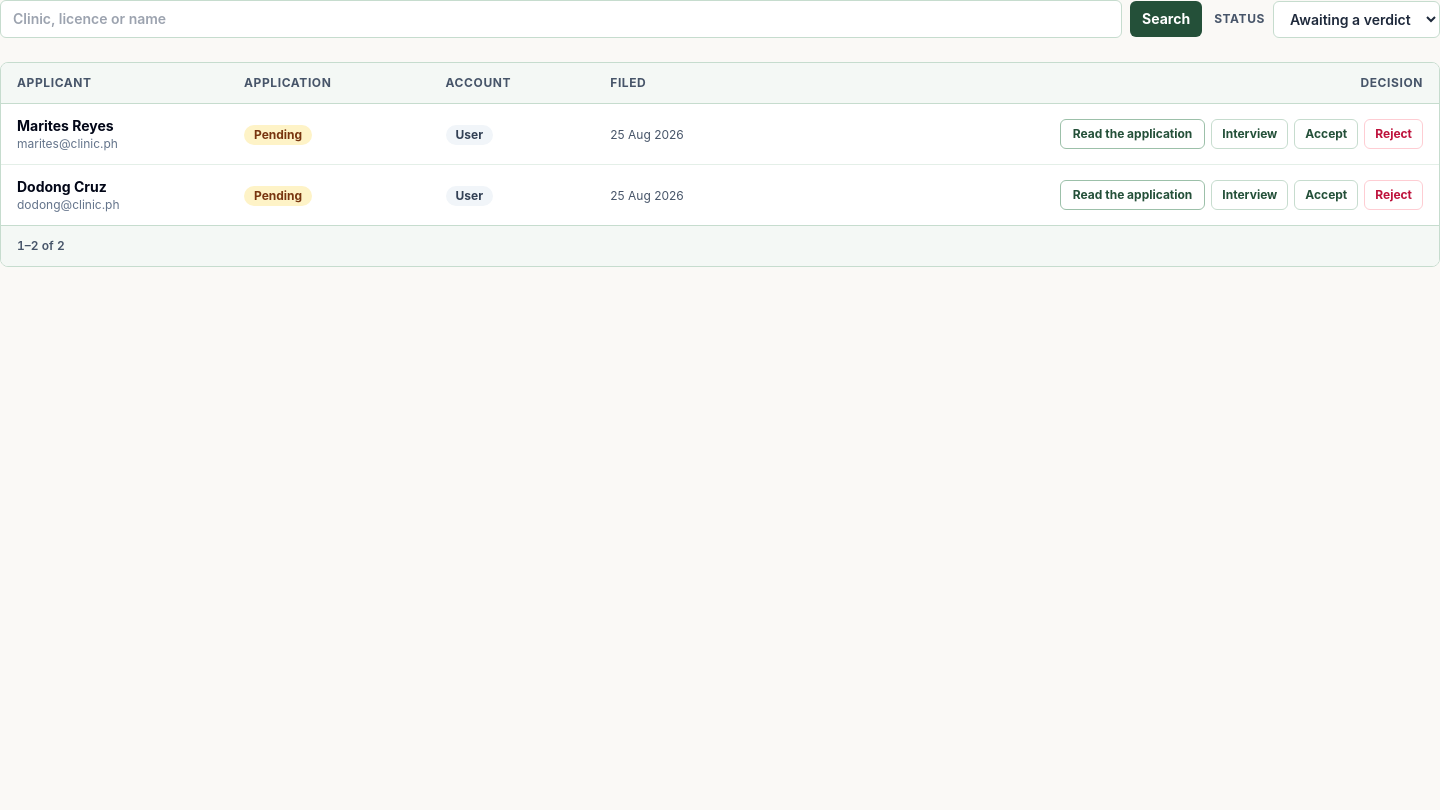
Test case: reading the submission › opens the row that was clicked, not the first in the queue
The image size is (1440, 810).
Click the button "Read the application" in the row of "Dodong Cruz" at (1133, 195), box 1060,180 -> 1205,210
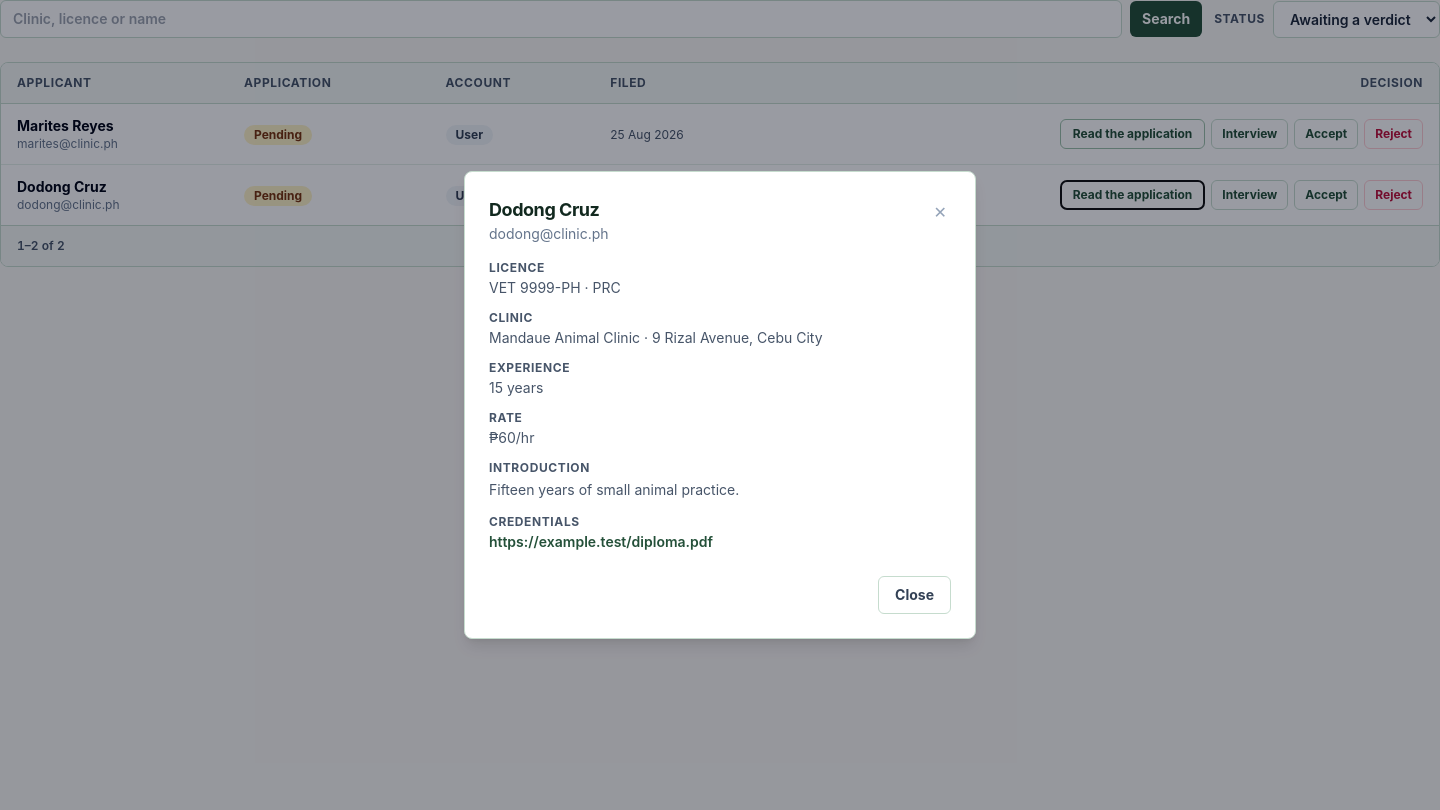
expect the text "VET 9999-PH · PRC" is shown: met, box 489,279 -> 621,296
